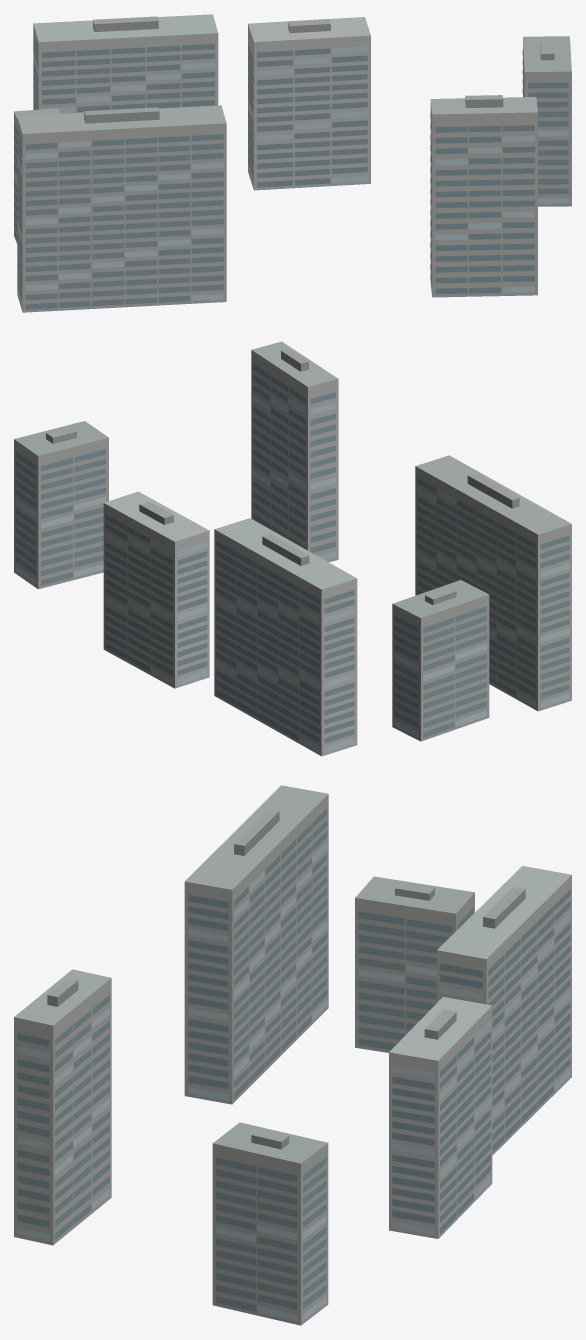
File: apt-a13676605.glb
3 views of the same model, one above another, from view 1: azimuth 30°, elevation 25°; view 2: azimuth 150°, elevation 25°; view 3: azimuth 270°, elevation 25° (orthographic). The views are drawn at different scales.
Parts seen in each view (by area): view 1: apt-a13676605; view 2: apt-a13676605; view 3: apt-a13676605.
Part boxes in pixels (x1=…): apt-a13676605: x1=14, y1=14, x2=571, y2=312; apt-a13676605: x1=14, y1=341, x2=571, y2=756; apt-a13676605: x1=14, y1=785, x2=571, y2=1325.
Size of the model in its own units: 165 by 54.18 by 119.
